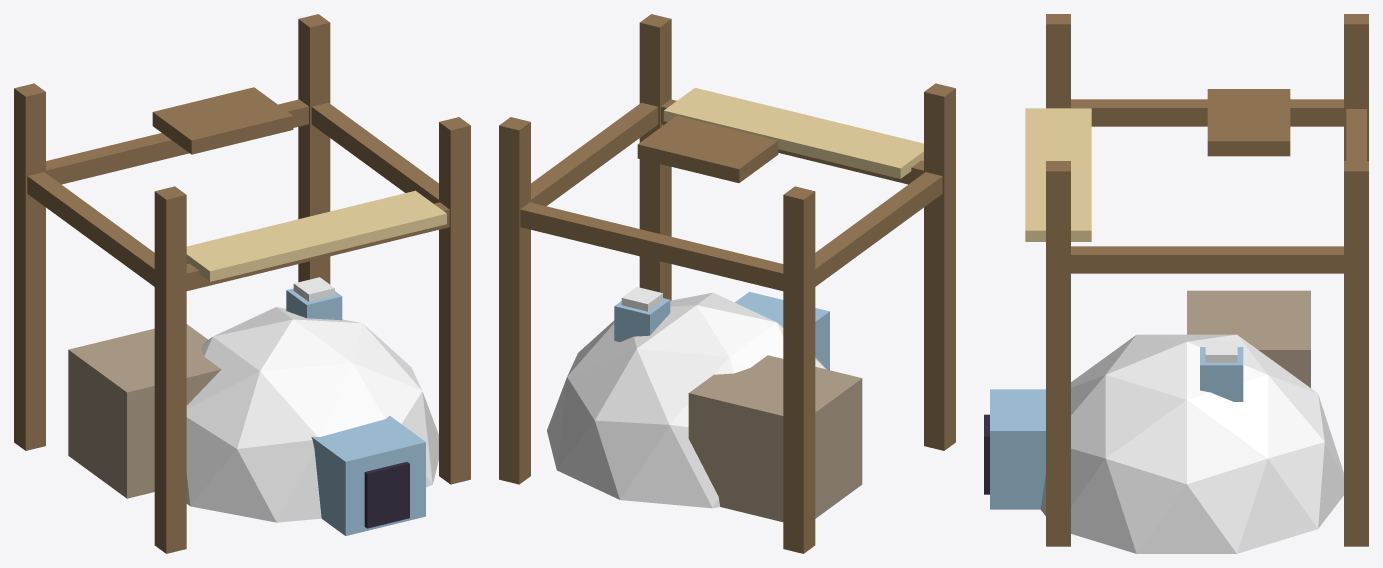
The model's file is ice-scaffold.glb.
3 views of the same model, side by side, from view 1: azimuth 30°, elevation 25°; view 2: azimuth 150°, elevation 25°; view 3: azimuth 270°, elevation 25° (orthographic). The views are drawn at different scales.
Parts seen in each view (by area): view 1: ice-scaffold; view 2: ice-scaffold; view 3: ice-scaffold.
Part boxes in pixels (bbox=[...]): ice-scaffold: bbox=[14, 14, 470, 553]; ice-scaffold: bbox=[499, 14, 955, 553]; ice-scaffold: bbox=[984, 14, 1368, 553].
Bounding box in the file's own units: 0.9428 × 1 × 0.93.
